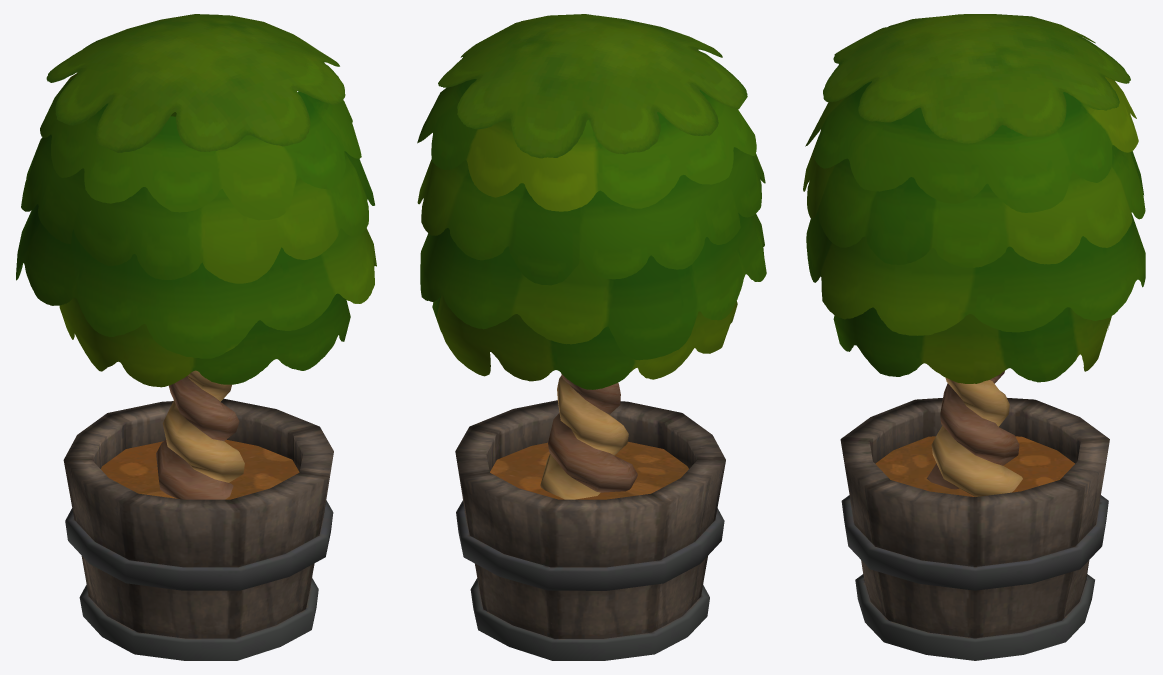
Rendered from Maceta.obj.
3 renders of one model, left to right at view 1: azimuth 30°, elevation 25°; view 2: azimuth 150°, elevation 25°; view 3: azimuth 270°, elevation 25°, orthographic.
Visible parts, largest first — view 1: FoliagePlant__MI_FoliagePlant_00, FoliagePlant__MI_FoliagePlant_01; view 2: FoliagePlant__MI_FoliagePlant_00, FoliagePlant__MI_FoliagePlant_01; view 3: FoliagePlant__MI_FoliagePlant_00, FoliagePlant__MI_FoliagePlant_01.
Part boxes in pixels (x1,y1,x2,y2): FoliagePlant__MI_FoliagePlant_00: (16, 14, 376, 387); FoliagePlant__MI_FoliagePlant_01: (63, 370, 333, 660); FoliagePlant__MI_FoliagePlant_00: (417, 14, 766, 389); FoliagePlant__MI_FoliagePlant_01: (455, 373, 725, 660); FoliagePlant__MI_FoliagePlant_00: (803, 14, 1145, 383); FoliagePlant__MI_FoliagePlant_01: (840, 371, 1109, 660).
Size of the model in its own units: 1.65 by 3.01 by 1.65.
